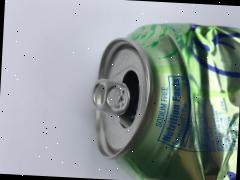metal: (59, 5, 240, 180)
